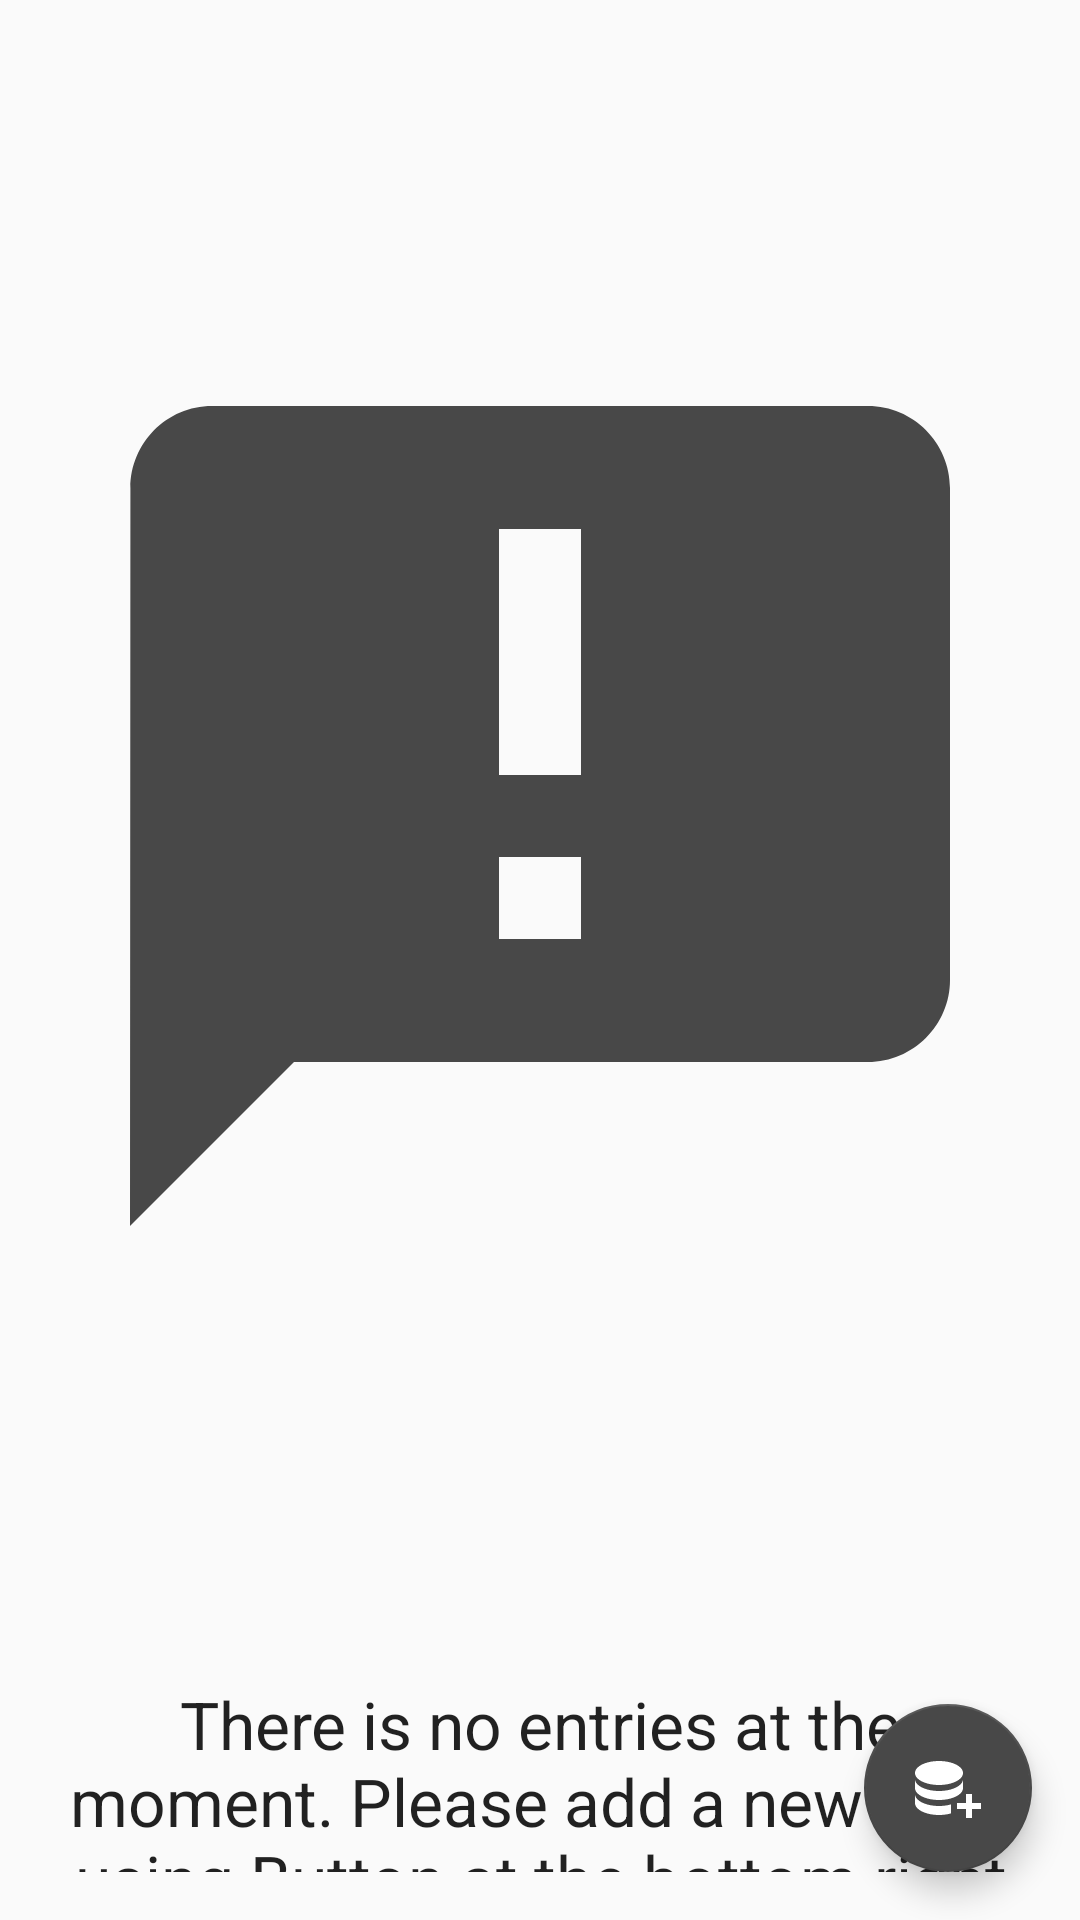

Named icons in this screenshot (1080×1920) and their bounding boxes, [left=x1, top=y1, right=x2, bottom=y2]:
fab: [left=864, top=1704, right=1032, bottom=1872]
